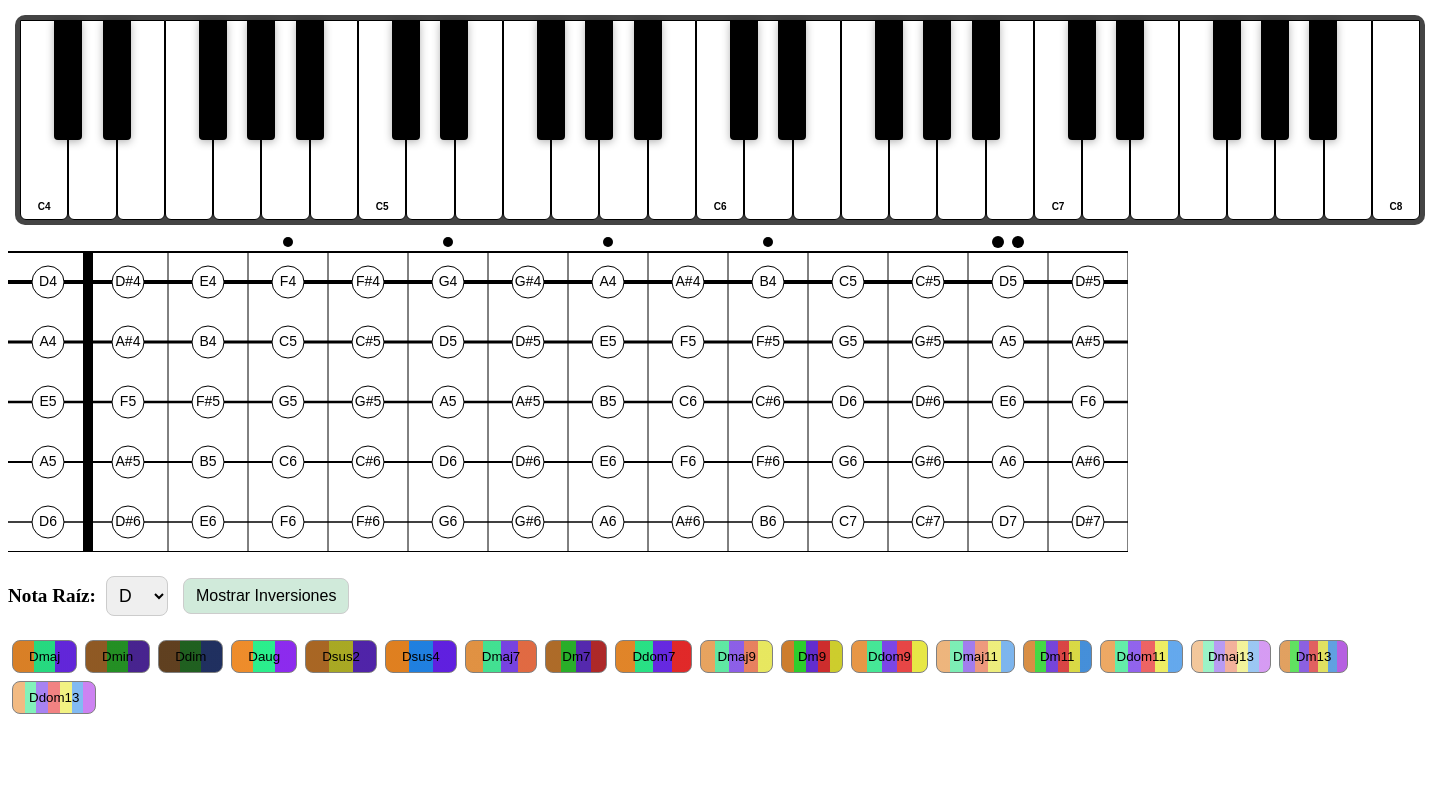
Test: App Integration Tests › Root Note Dropdown Interaction › updates the chord list and resets selection when root note is changed
Click the button "Dmaj": point(45, 656) 12,640 -> 77,673
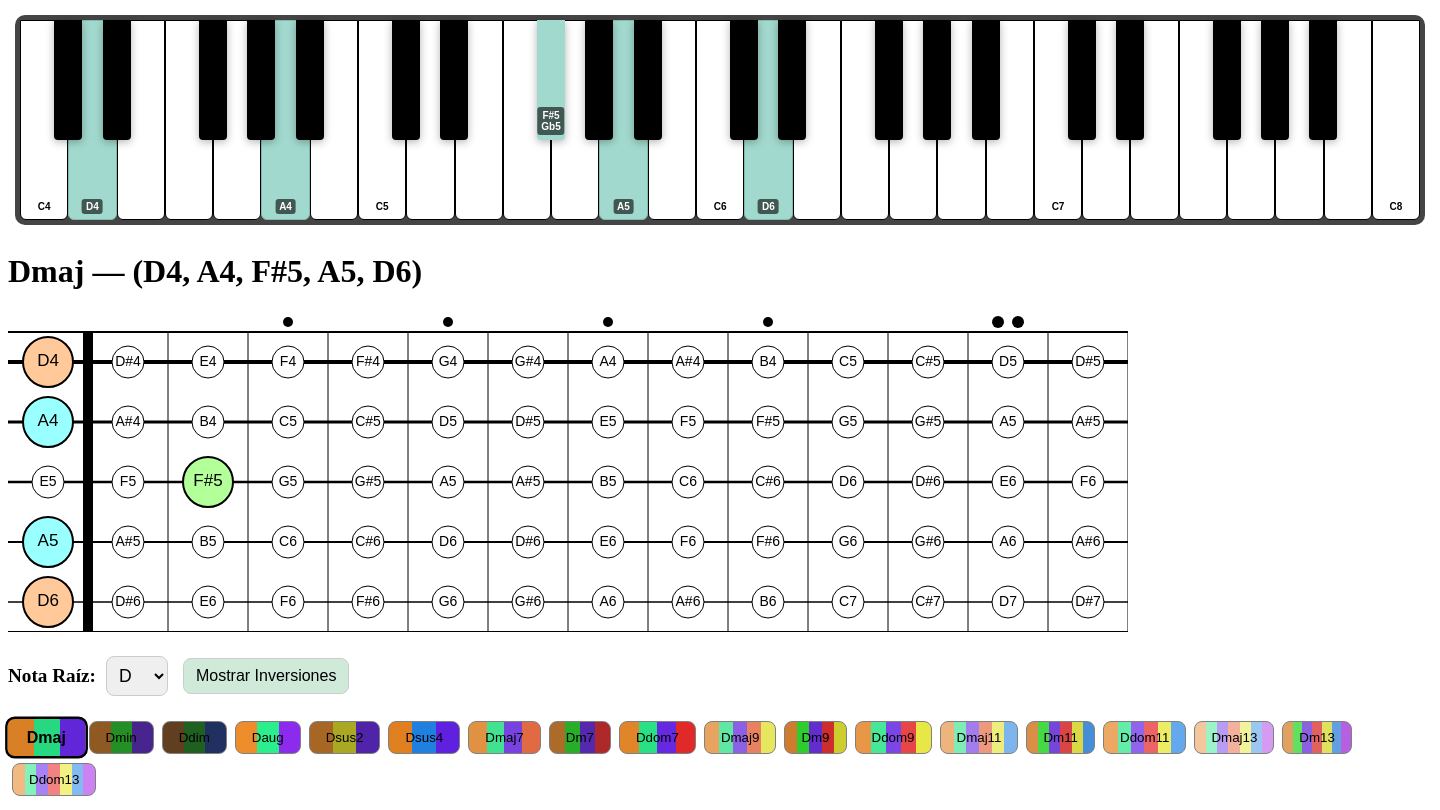
Check: the heading "Dmaj — (D4, A4, F#5, A5, D6)" is shown, box 8,253 -> 422,289
Cambiamos la nota raíz a 'E' usando el select.
Select "E" in the dropdown labelled "Nota Raíz:": point(137, 676) 106,656 -> 168,696
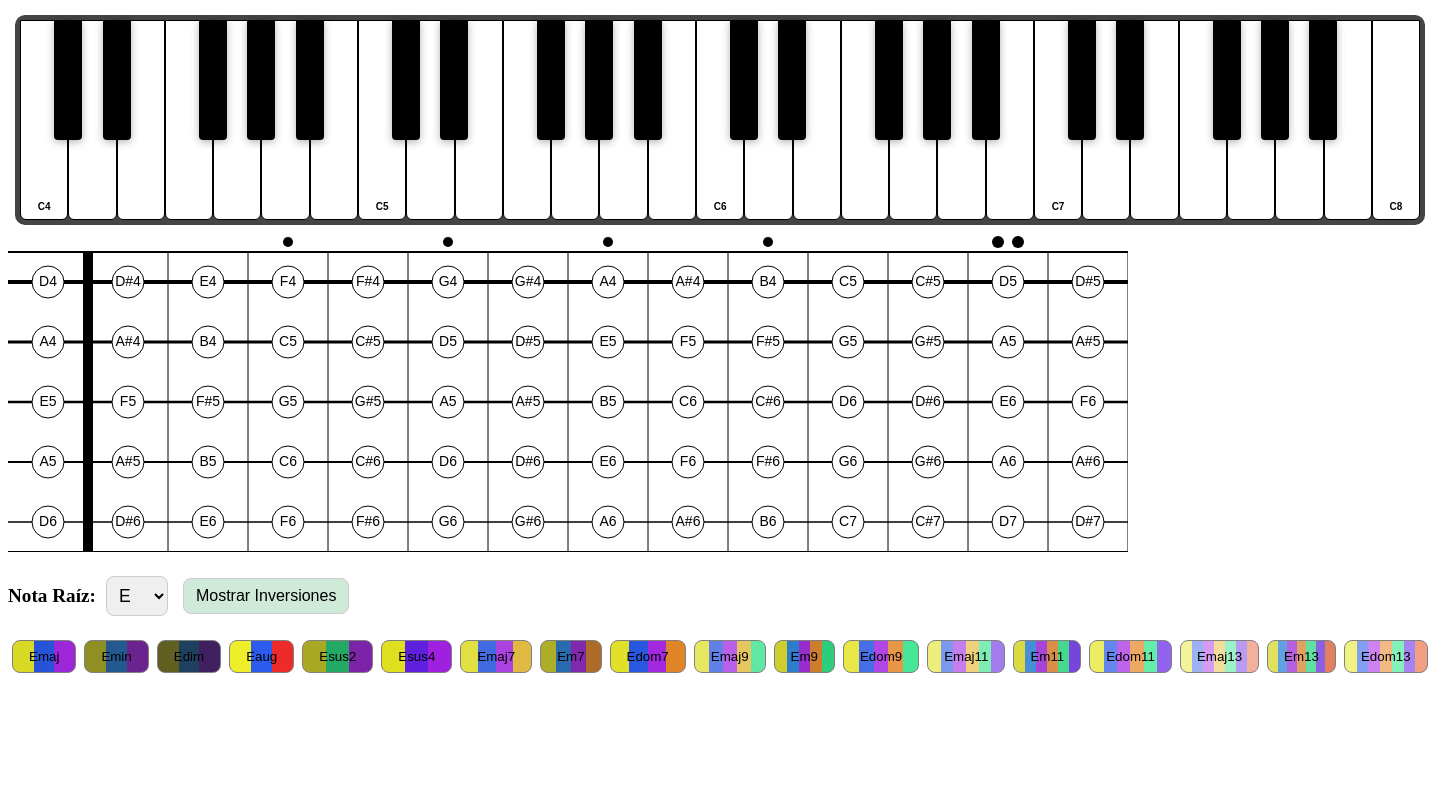
Check: the button "Dmaj" is gone
Check: the button "Emaj" is shown, box 12,640 -> 76,673
Check: the heading "Dmaj — (D4,A4,F#5,A5,D6)" is gone
